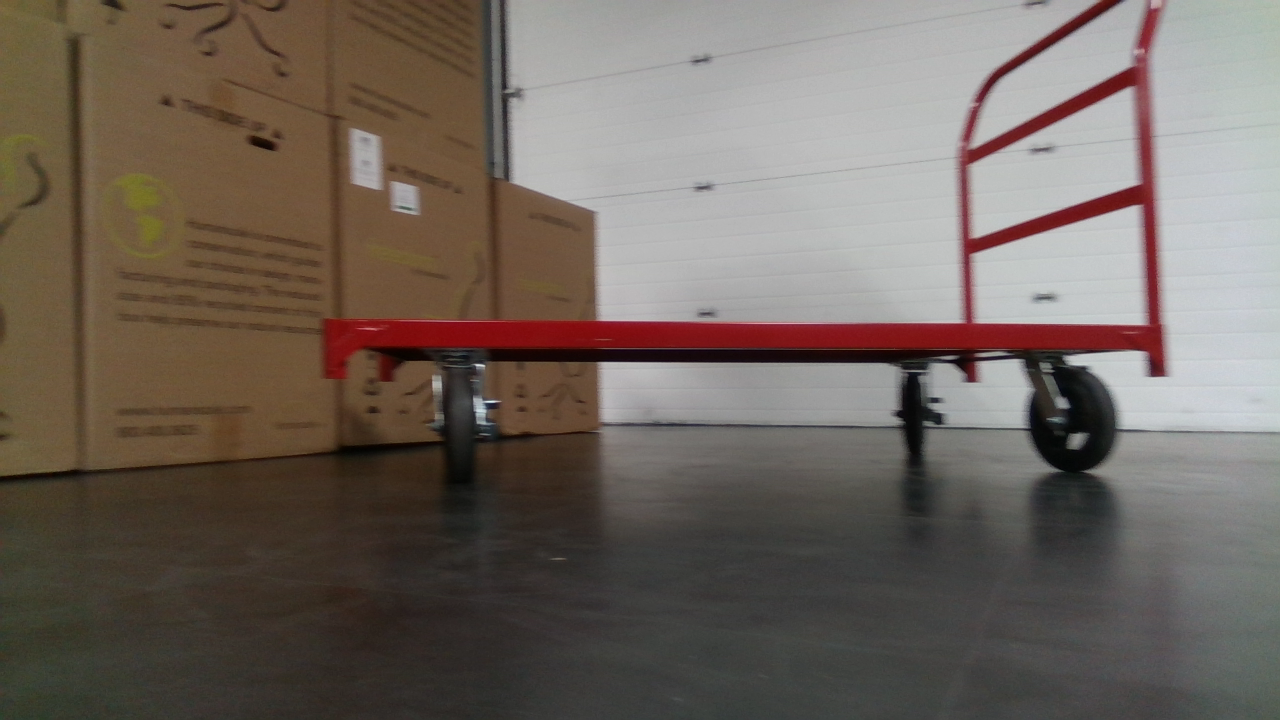Dolly: (313, 0, 1183, 494)
Wheel: (1024, 362, 1120, 476), (427, 361, 504, 488), (893, 369, 945, 460)
